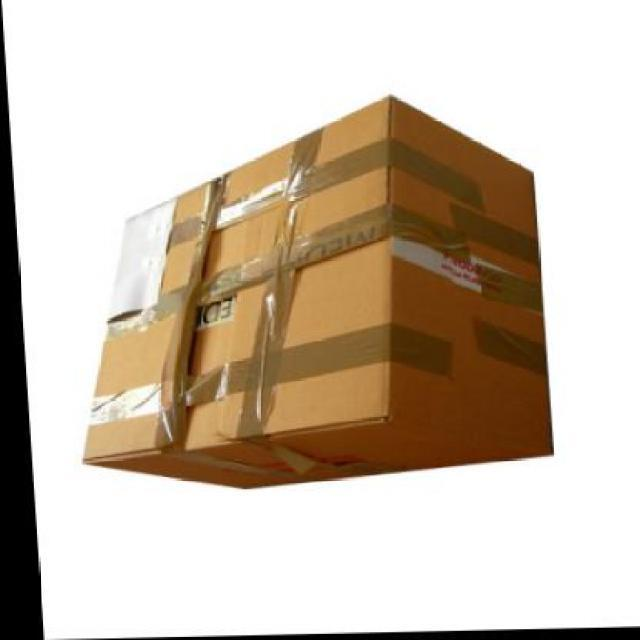box: (52, 95, 556, 522)
